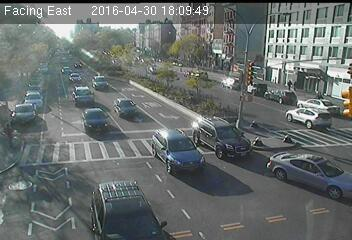neg: (217, 102, 232, 123), (183, 73, 193, 85)
pos: (285, 76, 296, 92)
